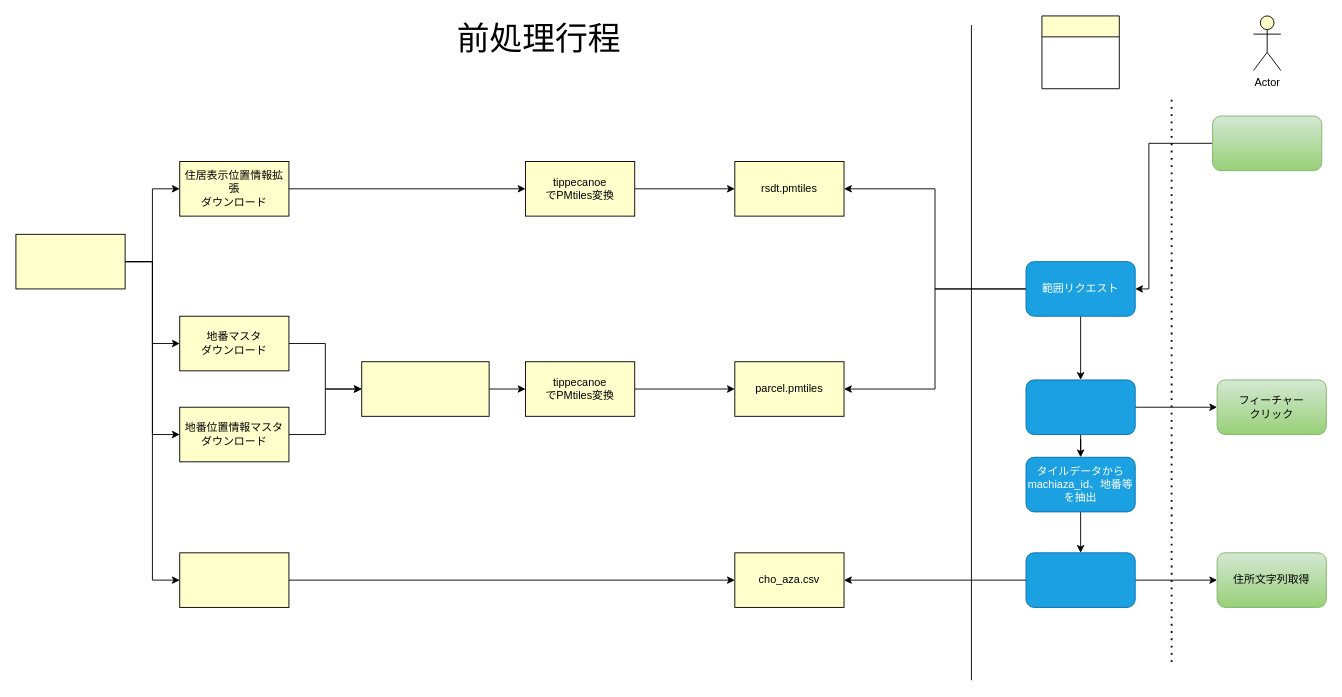
The diagram is 1342 pixels wide and 697 high, and some of its shapes have lost their labels. The centre of each missing label's shape, as x and y in pixels:
"Browser" goes at [1080,52].
"machiaza_idから地番等を抽出" goes at [1080,579].
"Prc IDを元に 結合した１ファイルに" goes at [425,388].
"タイルデータ 表示" goes at [1080,407].
"全国町字マスタ ダウンロード" goes at [70,261].
"町字マスタ.csv ダウンロード" goes at [234,579].
"緯度経度を入力" goes at [1267,143].
